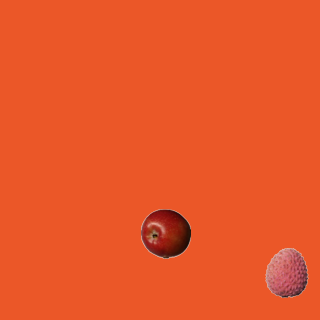Apple Braeburn: (140, 208, 190, 258)
Lychee: (261, 247, 311, 297)
